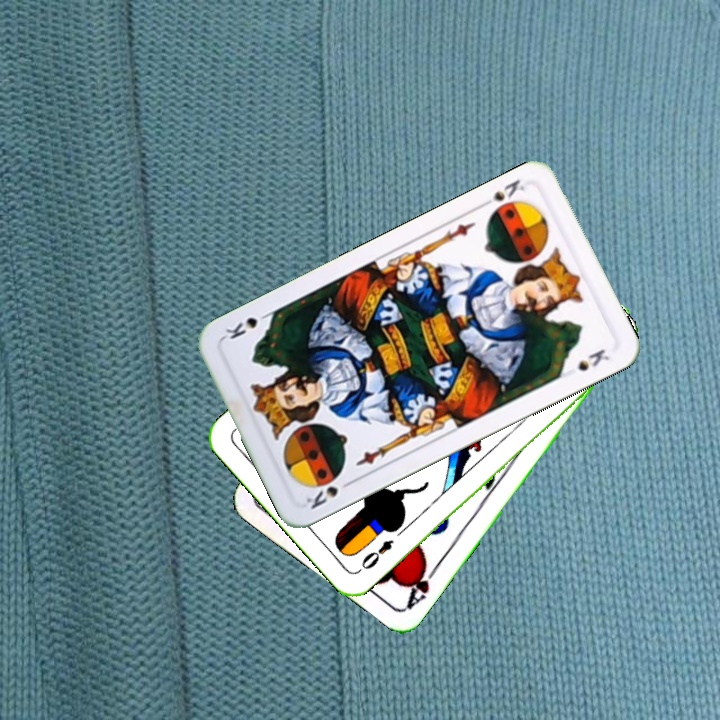EO: (354, 535, 397, 575)
HA: (402, 557, 442, 612)
SK: (302, 476, 356, 512), (476, 175, 528, 211)
